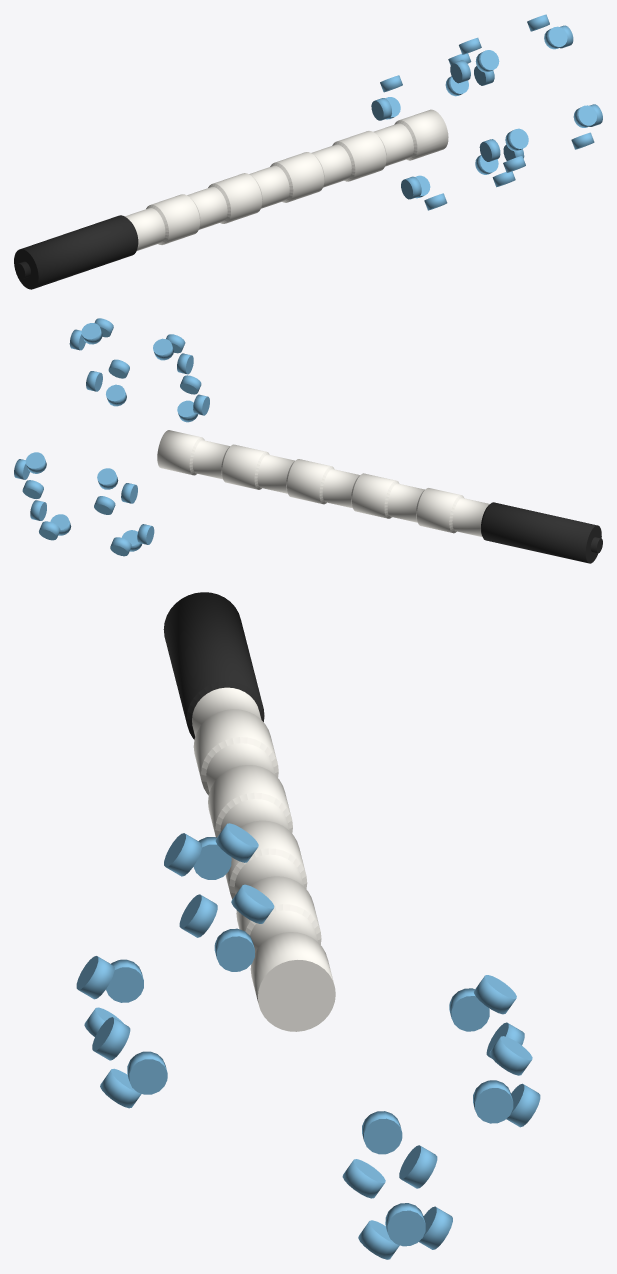
Rendered from Hummer_anims.fbx.
3 views of the same model, one above another, from view 1: azimuth 30°, elevation 25°; view 2: azimuth 150°, elevation 25°; view 3: azimuth 270°, elevation 25° (orthographic). The views are drawn at different scales.
Visible parts, largest first — view 1: cube stage 3.008; view 2: cube stage 3.008; view 3: cube stage 3.008.
Boxes of the visible parts, bbox=[...] form: cube stage 3.008: bbox=[14, 14, 602, 289]; cube stage 3.008: bbox=[14, 318, 602, 563]; cube stage 3.008: bbox=[76, 592, 540, 1259].
Size of the model in its own units: 309 by 106 by 118.
